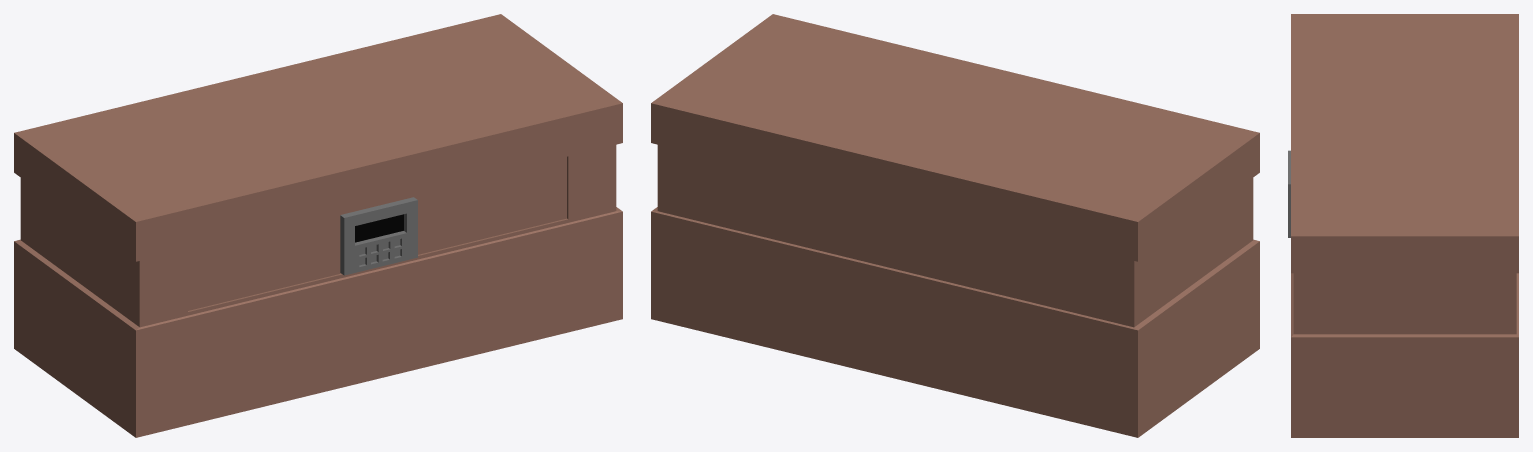
File: crate.fbx
3 renders of one model, left to right at view 1: azimuth 30°, elevation 25°; view 2: azimuth 150°, elevation 25°; view 3: azimuth 270°, elevation 25°, orthographic. The views are drawn at different scales.
Visible parts, largest first — view 1: box, lid, passcode thing, screen; view 2: box, lid; view 3: lid, box, passcode thing.
Part boxes in pixels (bbox=[...]): box: bbox=[14, 145, 622, 437]; lid: bbox=[14, 14, 622, 261]; passcode thing: bbox=[340, 197, 417, 275]; screen: bbox=[355, 214, 403, 242]; box: bbox=[651, 145, 1259, 437]; lid: bbox=[651, 14, 1259, 261]; lid: bbox=[1291, 14, 1518, 273]; box: bbox=[1291, 273, 1518, 437]; passcode thing: bbox=[1288, 150, 1290, 237].
Size of the model in its own units: 461 by 195 by 203.
